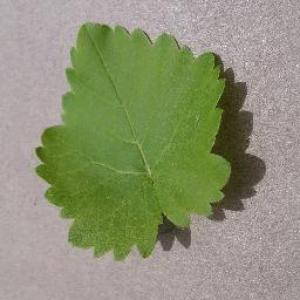Folha: (34, 20, 232, 261)
